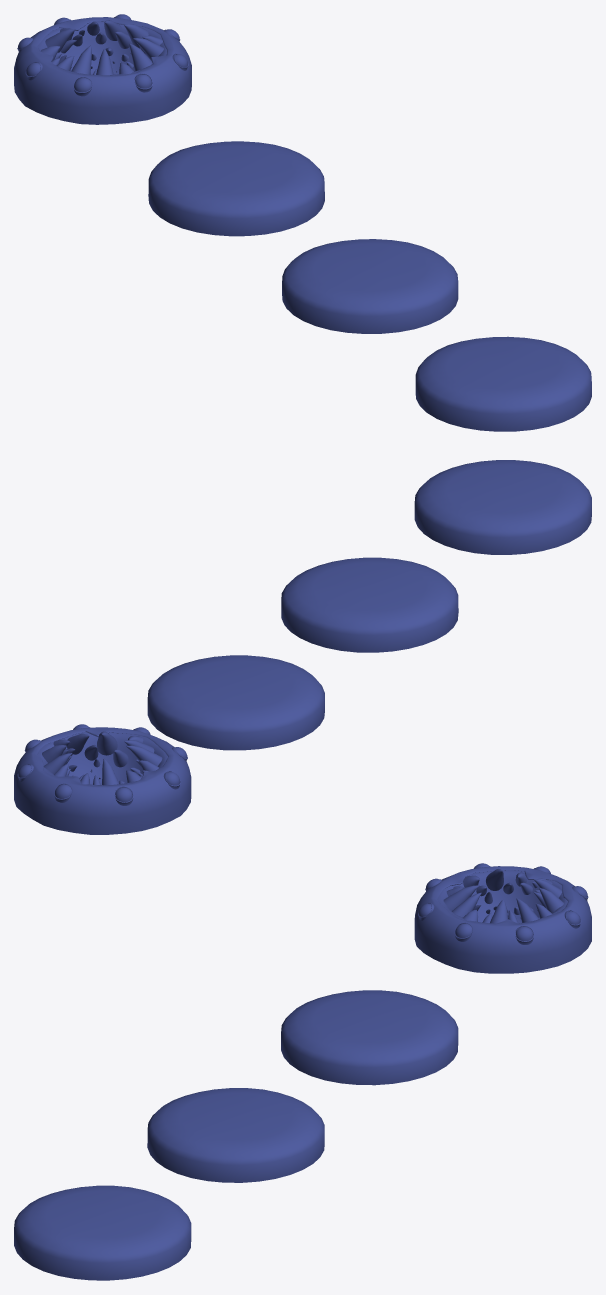
The model's file is Tiles.fbx.
3 renders of one model, top to bottom at view 1: azimuth 30°, elevation 25°; view 2: azimuth 150°, elevation 25°; view 3: azimuth 330°, elevation 25°, orthographic.
Parts seen in each view (by area): view 1: Cylinder.002, Cylinder, Cylinder.001, Cylinder.003, Cylinder.004, Cylinder.005, Sphere; view 2: Cylinder.001, Cylinder.002, Cylinder, Cylinder.003, Cylinder.004, Cylinder.005, Sphere; view 3: Cylinder, Cylinder.002, Cylinder.001, Cylinder.003, Cylinder.004, Cylinder.005, Sphere.
Part boxes in pixels (box(x1,y1,x2,y2)): Cylinder.002: box(148, 141, 324, 236); Cylinder: box(415, 336, 591, 431); Cylinder.001: box(282, 239, 458, 333); Cylinder.003: box(14, 17, 191, 124); Cylinder.004: box(40, 20, 163, 75); Cylinder.005: box(37, 21, 166, 75); Sphere: box(17, 14, 188, 96); Cylinder.001: box(281, 557, 458, 652); Cylinder.002: box(147, 655, 324, 750); Cylinder: box(414, 460, 591, 554); Cylinder.003: box(14, 727, 191, 834); Cylinder.004: box(42, 731, 162, 785); Cylinder.005: box(38, 732, 167, 785); Sphere: box(17, 724, 187, 805); Cylinder: box(14, 1185, 191, 1280); Cylinder.002: box(281, 990, 458, 1085); Cylinder.001: box(147, 1088, 324, 1182); Cylinder.003: box(414, 866, 591, 973); Cylinder.004: box(443, 869, 563, 923); Cylinder.005: box(437, 870, 568, 924); Sphere: box(418, 863, 588, 944).
Size of the model in its own units: 202 by 81.5 by 1101.
